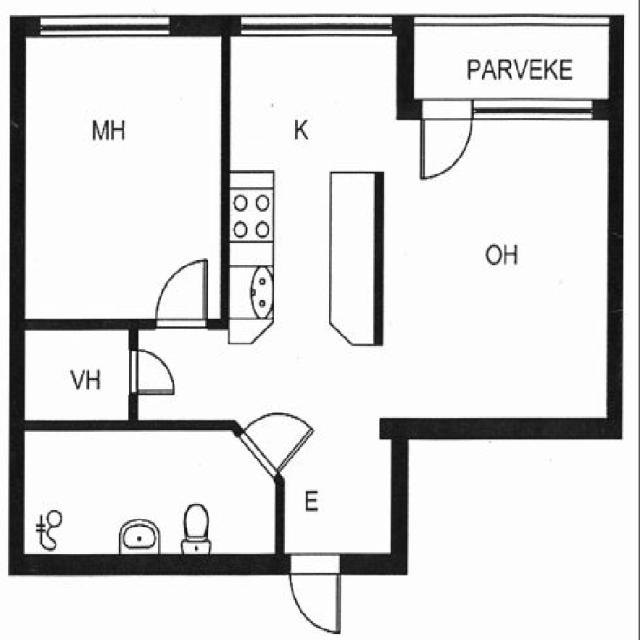door: (414, 97, 477, 185), (148, 252, 212, 332), (284, 556, 344, 637), (127, 345, 178, 400)
window: (36, 15, 180, 44), (240, 16, 394, 43)
zone: (396, 103, 619, 421), (228, 32, 394, 422), (21, 23, 228, 328), (17, 427, 278, 564), (406, 9, 617, 113), (280, 425, 397, 569), (16, 324, 136, 426), (242, 412, 308, 471), (223, 175, 274, 245)
